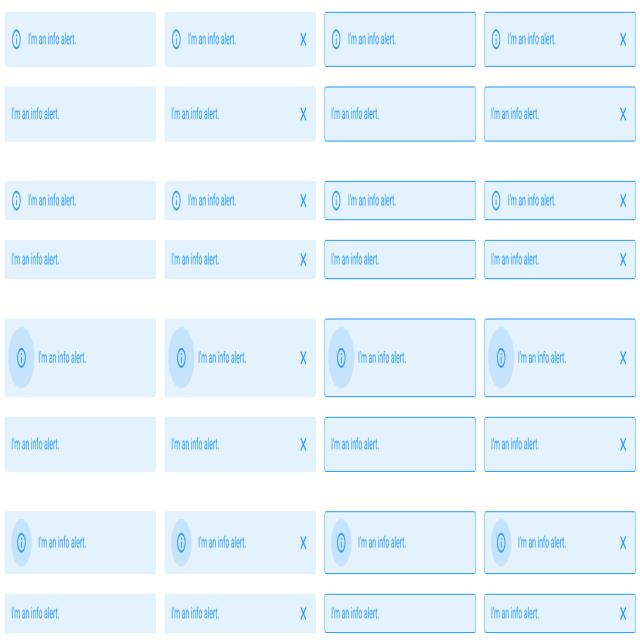QLabel: (347, 28, 397, 51), (490, 102, 540, 125), (197, 347, 247, 369), (330, 602, 380, 624), (38, 348, 87, 369), (37, 533, 87, 553), (187, 29, 237, 49), (330, 249, 380, 269), (11, 104, 60, 124), (507, 27, 556, 47), (170, 250, 220, 269), (358, 532, 408, 551), (490, 249, 540, 268), (517, 348, 567, 367), (490, 603, 540, 622), (11, 435, 60, 454), (171, 103, 220, 122), (28, 30, 76, 49), (171, 604, 219, 623), (10, 250, 60, 268), (11, 603, 61, 621), (187, 191, 237, 209), (330, 104, 380, 122), (490, 435, 540, 453), (28, 192, 77, 210), (347, 192, 396, 210), (358, 348, 407, 366), (507, 191, 556, 209), (330, 435, 380, 452), (517, 533, 566, 550), (198, 533, 246, 550), (170, 435, 220, 451)
VAlert: (324, 317, 476, 398), (484, 318, 636, 398), (165, 318, 316, 398), (5, 319, 156, 398), (4, 510, 157, 576), (324, 510, 476, 575), (484, 510, 636, 575), (164, 512, 316, 574), (164, 10, 317, 68), (324, 85, 476, 143), (324, 415, 476, 473), (484, 10, 636, 68), (484, 85, 636, 143), (165, 85, 316, 143), (324, 11, 476, 68), (484, 416, 636, 473), (5, 11, 156, 68), (5, 86, 156, 142), (165, 416, 316, 472), (4, 417, 156, 472), (164, 180, 316, 222), (324, 238, 476, 280), (324, 592, 476, 634), (484, 180, 636, 222), (4, 593, 157, 634), (324, 180, 476, 221), (484, 239, 636, 280), (484, 593, 636, 634), (165, 239, 316, 280), (5, 180, 156, 220), (5, 239, 156, 279), (165, 594, 316, 634)
